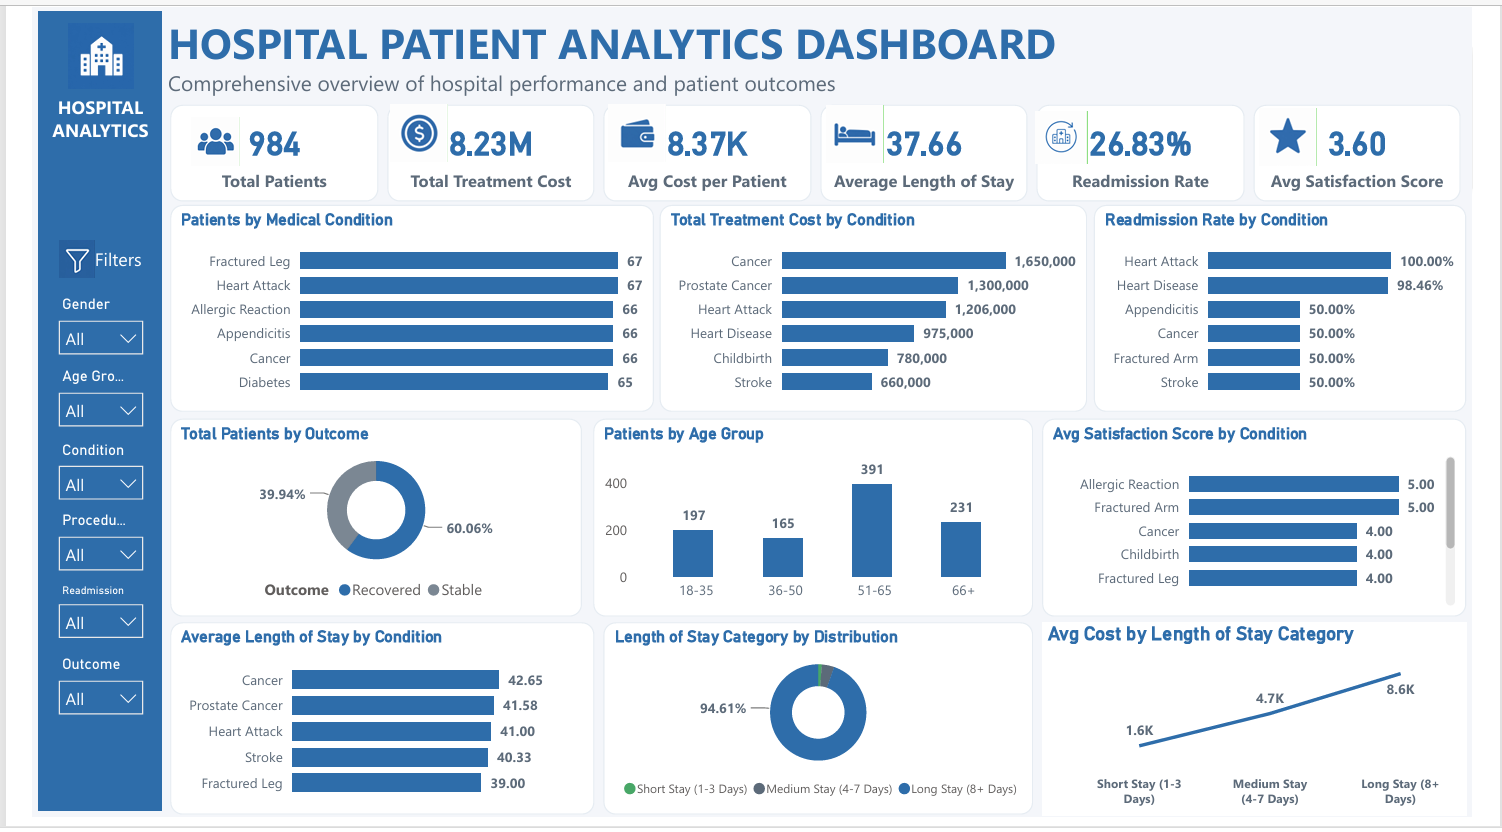

What the dashboard file says about the page in this screenshot:
{"tool":"powerbi","page":{"name":"Page 1","canvas":[1280,720],"ordinal":0},"visuals":[{"type":"shape","box":[4.8,3.2,109.8,711],"z":0},{"type":"textbox","box":[4.8,71.6,109.8,52.5],"z":1000},{"type":"textbox","box":[114.5,0,1165.9,85.9],"z":2000},{"type":"card","fields":{"Values":["hospital_data.Average Satisfaction Score"]},"box":[1084.8,85.9,184.5,85.9],"z":3000},{"type":"card","fields":{"Values":["hospital_data.Readmission Rate"]},"box":[892.3,85.9,184.5,85.9],"z":4000},{"type":"card","fields":{"Values":["hospital_data.Average Length of Stay"]},"box":[699.9,85.9,184.5,85.9],"z":5000},{"type":"card","fields":{"Values":["hospital_data.Average Cost per Patient"]},"box":[507.4,85.9,184.5,85.9],"z":6000},{"type":"card","fields":{"Values":["hospital_data.Total Treatment Cost"]},"box":[314.9,85.9,184.5,85.9],"z":7000},{"type":"card","fields":{"Values":["hospital_data.Total Patients"]},"box":[122.5,85.9,184.5,85.9],"z":8000},{"type":"barChart","title":"Patients by Medical Condition","fields":{"Category":["hospital_data.Condition"],"Y":["hospital_data.Total Patients"]},"box":[122.5,175,429.5,184.5],"z":9000},{"type":"clusteredBarChart","fields":{"Category":["hospital_data.Condition"],"Y":["hospital_data.Total Treatment Cost"]},"box":[556.7,175,380.2,184.5],"z":10000},{"type":"clusteredBarChart","fields":{"Category":["hospital_data.Condition"],"Y":["hospital_data.Readmission Rate"]},"box":[943.2,175,330.8,184.5],"z":11000},{"type":"donutChart","fields":{"Category":["hospital_data.Outcome"],"Y":["hospital_data.Total Patients"]},"box":[122.5,364.7,365.8,176.6],"z":12000},{"type":"clusteredColumnChart","title":"Patients by Age Group","fields":{"Category":["hospital_data.Age Group"],"Y":["hospital_data.Total Patients"]},"box":[497.9,364.7,391.3,176.6],"z":13000},{"type":"clusteredBarChart","fields":{"Category":["hospital_data.Condition"],"Y":["hospital_data.Average Satisfaction Score"]},"box":[897.1,364.7,377,176.6],"z":14000},{"type":"clusteredBarChart","fields":{"Category":["hospital_data.Condition"],"Y":["hospital_data.Average Length of Stay"]},"box":[122.5,545.6,377,171.8],"z":15000},{"type":"donutChart","title":"Length of Stay Category by Distribution","fields":{"Category":["hospital_data.Length of Stay Category"],"Y":["hospital_data.Total Patients"]},"box":[507.4,545.6,381.7,171.8],"z":16000},{"type":"lineChart","title":"Avg Cost by Length of Stay Category","fields":{"Category":["hospital_data.Length of Stay Category"],"Y":["hospital_data.Average Cost per Patient"]},"box":[897,546,377,172],"z":17000},{"type":"image","box":[19.1,14.3,82.7,57.3],"z":18000},{"type":"image","box":[133.6,97,57.3,42.9],"z":19000},{"type":"image","box":[314.9,85.9,57.3,50.9],"z":20000},{"type":"image","box":[509,85.9,57.3,50.9],"z":21000},{"type":"image","box":[701.5,87.5,57.3,50.9],"z":22000},{"type":"image","box":[890.7,89.1,46.1,50.9],"z":23000},{"type":"image","box":[1086.4,89.1,57.3,50.9],"z":24000},{"type":"slicer","fields":{"Values":["hospital_data.Gender"]},"box":[12.7,250.9,95.4,63.6],"z":25000},{"type":"slicer","fields":{"Values":["hospital_data.Age Group"]},"box":[12.7,314.5,95.4,63.6],"z":26000},{"type":"slicer","fields":{"Values":["hospital_data.Condition"]},"box":[12.7,379.7,95.4,63.6],"z":27000},{"type":"slicer","fields":{"Values":["hospital_data.Procedure"]},"box":[12.7,443.4,95.4,63.6],"z":28000},{"type":"slicer","fields":{"Values":["hospital_data.Readmission"]},"box":[12.7,507,95.4,63.6],"z":29000},{"type":"slicer","fields":{"Values":["hospital_data.Outcome"]},"box":[12.7,570.6,95.4,63.6],"z":30000},{"type":"textbox","box":[19.1,206.8,95.4,33.4],"z":31000},{"type":"image","box":[19.1,206.8,41.4,33.4],"z":32000}]}

Visuals, with their boxes in screenshot pixels (x1, y1, x2, y2), scaled from the page's 1280x720 canvas onto the 1502x832 screenshot:
shape: 6:4:134:825
textbox: 6:83:134:143
textbox: 134:0:1501:99
card - hospital_data.Average Satisfaction Score: 1273:99:1489:199
card - hospital_data.Readmission Rate: 1047:99:1264:199
card - hospital_data.Average Length of Stay: 821:99:1038:199
card - hospital_data.Average Cost per Patient: 595:99:812:199
card - hospital_data.Total Treatment Cost: 370:99:586:199
card - hospital_data.Total Patients: 144:99:360:199
"Patients by Medical Condition" barChart: 144:202:648:415
clusteredBarChart - hospital_data.Condition x hospital_data.Total Treatment Cost: 653:202:1099:415
clusteredBarChart - hospital_data.Condition x hospital_data.Readmission Rate: 1107:202:1495:415
donutChart - hospital_data.Outcome x hospital_data.Total Patients: 144:421:573:626
"Patients by Age Group" clusteredColumnChart: 584:421:1043:626
clusteredBarChart - hospital_data.Condition x hospital_data.Average Satisfaction Score: 1053:421:1495:626
clusteredBarChart - hospital_data.Condition x hospital_data.Average Length of Stay: 144:630:586:829
"Length of Stay Category by Distribution" donutChart: 595:630:1043:829
"Avg Cost by Length of Stay Category" lineChart: 1053:631:1495:830
image: 22:17:119:83
image: 157:112:224:162
image: 370:99:437:158
image: 597:99:665:158
image: 823:101:890:160
image: 1045:103:1099:162
image: 1275:103:1342:162
slicer - hospital_data.Gender: 15:290:127:363
slicer - hospital_data.Age Group: 15:363:127:437
slicer - hospital_data.Condition: 15:439:127:512
slicer - hospital_data.Procedure: 15:512:127:586
slicer - hospital_data.Readmission: 15:586:127:659
slicer - hospital_data.Outcome: 15:659:127:733
textbox: 22:239:134:278
image: 22:239:71:278
